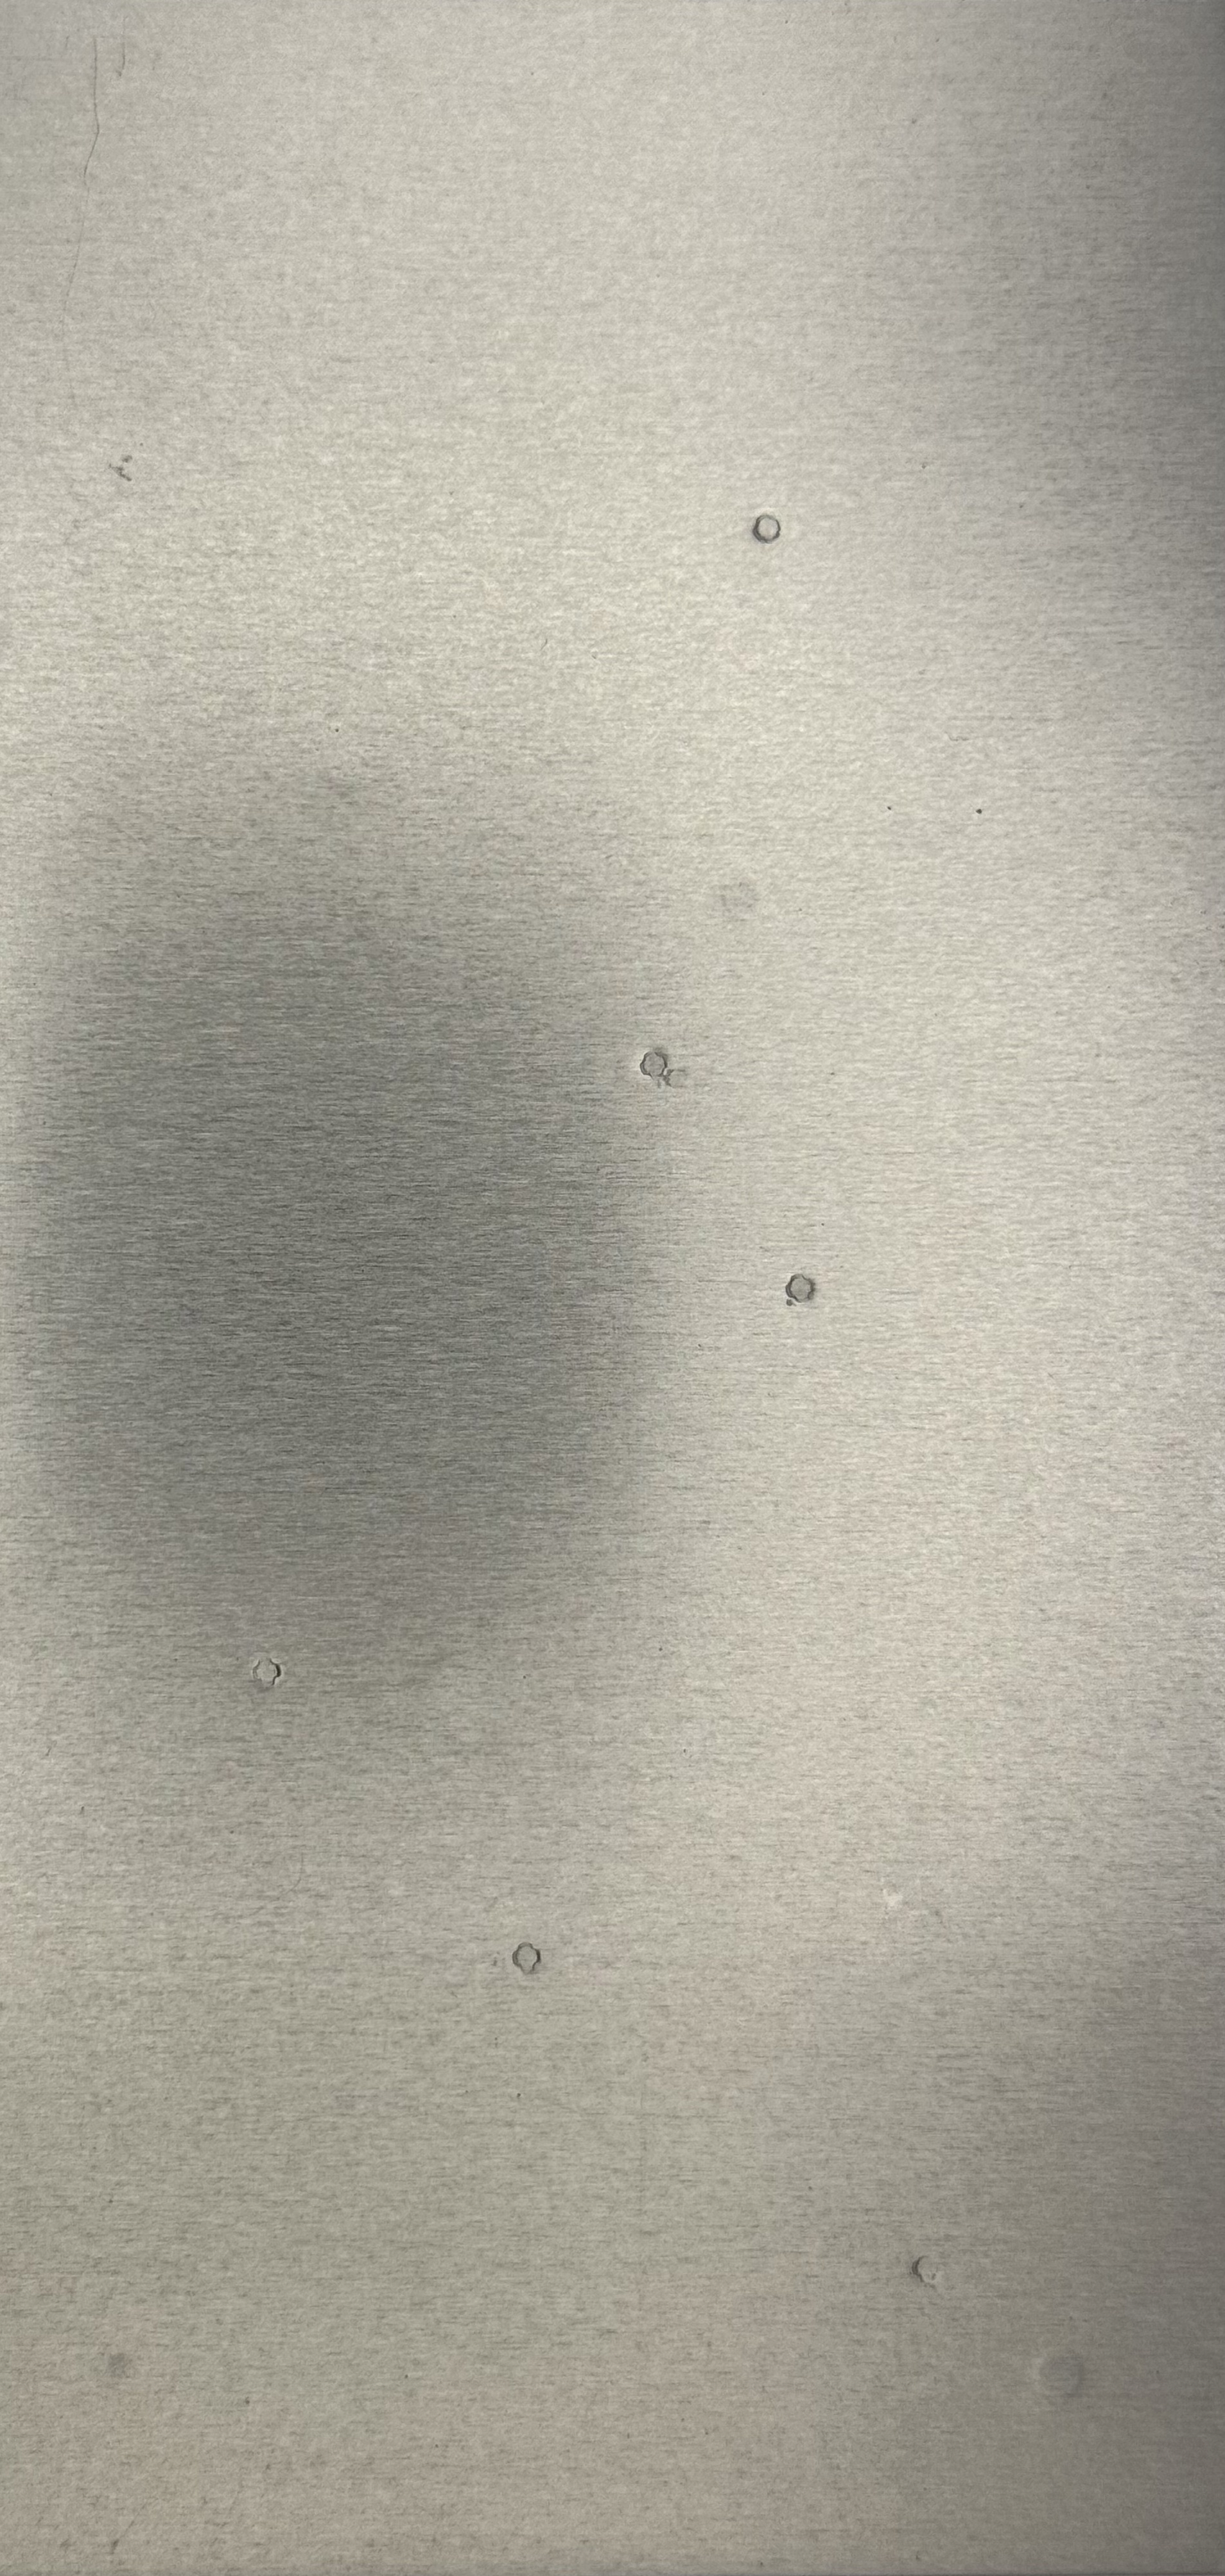Delle: (1010, 2330, 1113, 2423), (619, 1028, 721, 1106), (703, 854, 790, 940), (235, 1638, 302, 1709), (489, 1929, 560, 1994), (767, 1262, 837, 1326), (87, 2344, 163, 2395), (898, 2239, 956, 2300), (736, 499, 795, 557)
